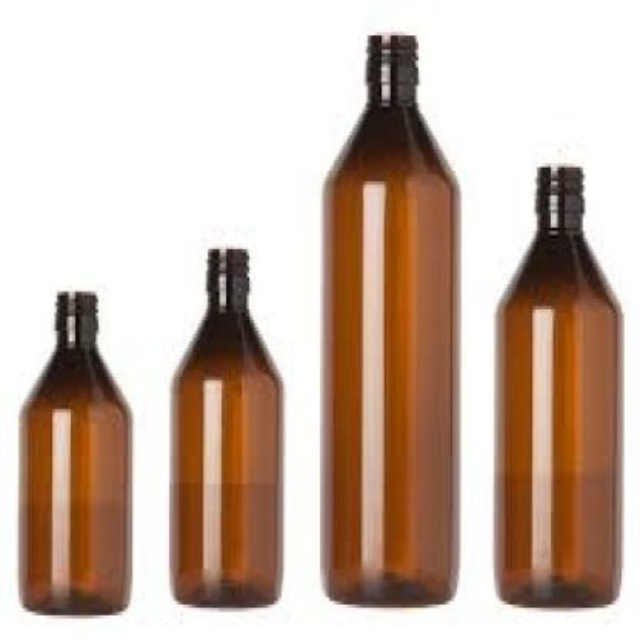trash: (323, 35, 455, 605), (497, 166, 620, 605), (171, 249, 282, 605), (20, 292, 129, 612)
